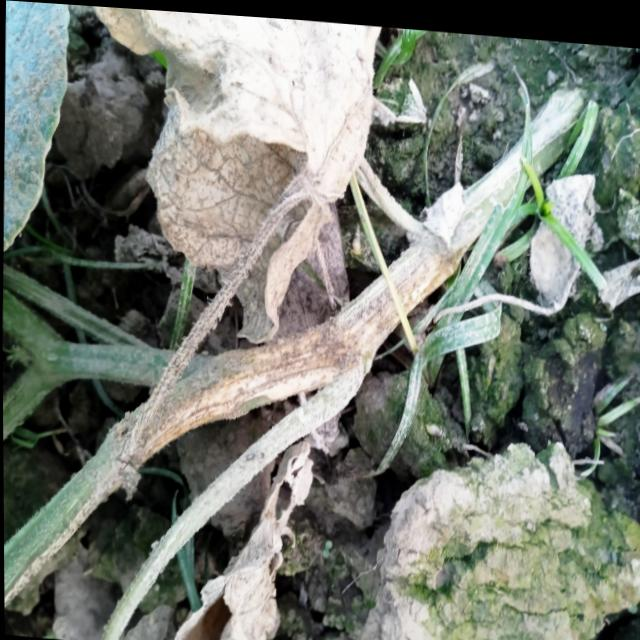Bacterial-Wilt: (94, 5, 388, 346)
